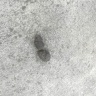Dog: (34, 35, 50, 61)
